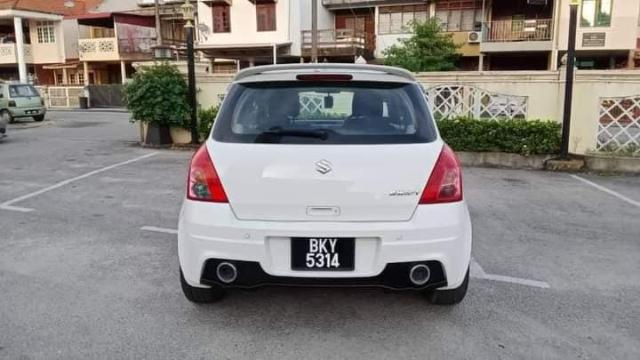License_Plate: (295, 236, 350, 274)
car: (176, 61, 474, 300)
